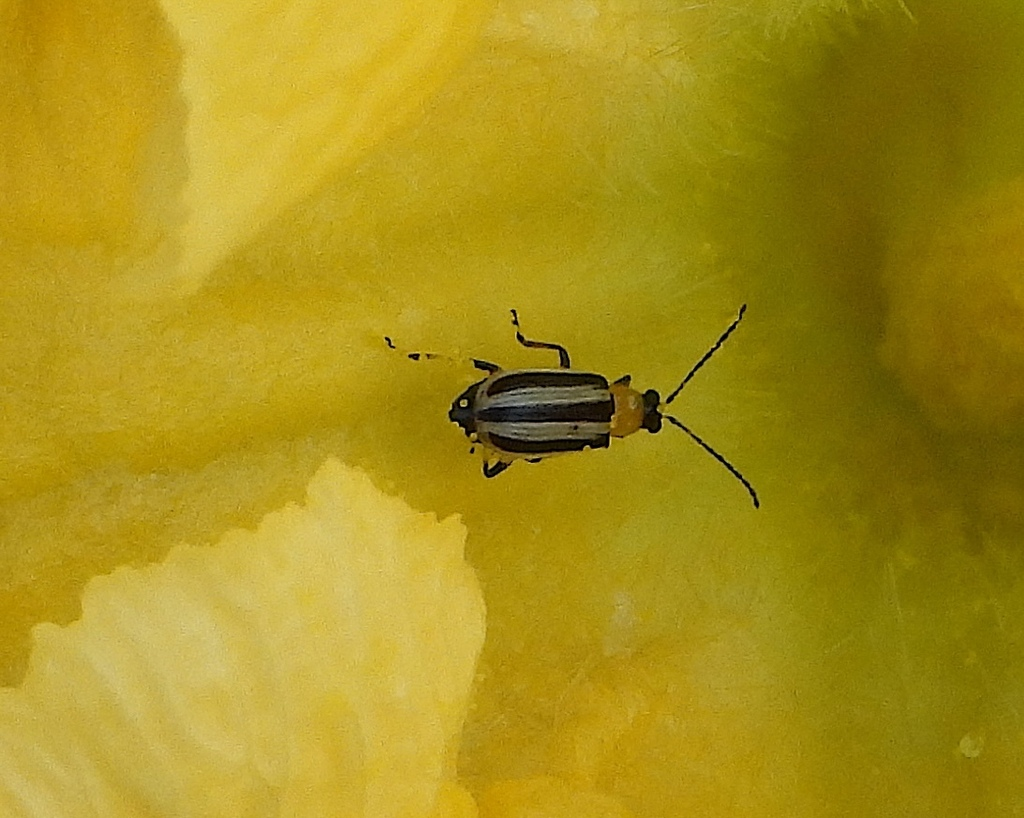potato_beetle: (330, 233, 845, 587)
